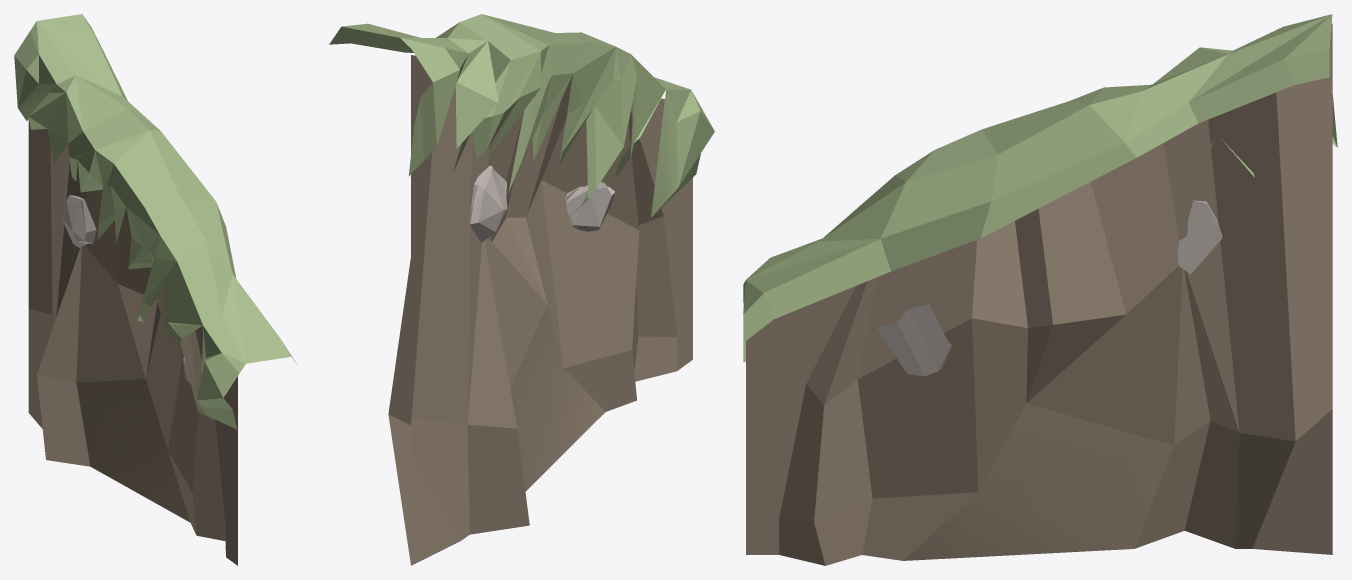
Rendered from ER_Terrain_1x1_GrassSlope_001_B4.fbx.
3 views of the same model, side by side, from view 1: azimuth 30°, elevation 25°; view 2: azimuth 150°, elevation 25°; view 3: azimuth 270°, elevation 25° (orthographic). The views are drawn at different scales.
Visible parts, largest first — view 1: ER_Terrain_1x1_GrassSlope_001_B4; view 2: ER_Terrain_1x1_GrassSlope_001_B4; view 3: ER_Terrain_1x1_GrassSlope_001_B4.
Boxes of the visible parts, x1,y1,x2,y2 form: ER_Terrain_1x1_GrassSlope_001_B4: [14, 14, 297, 565]; ER_Terrain_1x1_GrassSlope_001_B4: [329, 14, 714, 565]; ER_Terrain_1x1_GrassSlope_001_B4: [743, 14, 1337, 565].
Size of the model in its own units: 0.2958 by 1.03 by 1.01.
